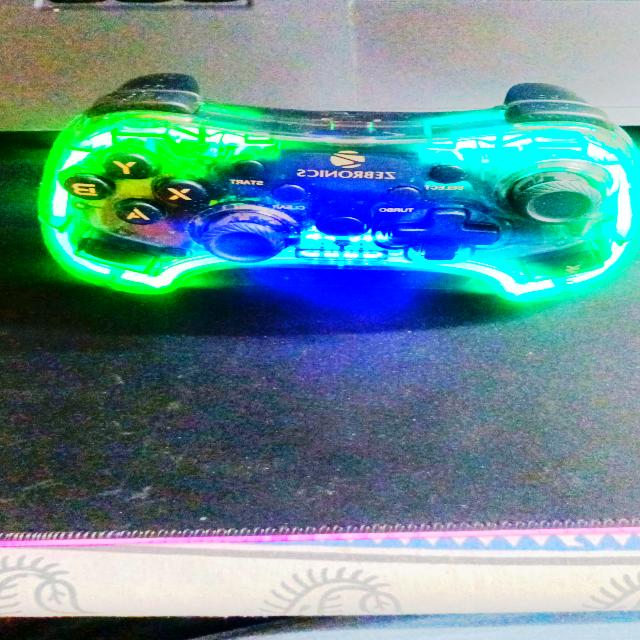gamepad: (35, 72, 640, 303)
